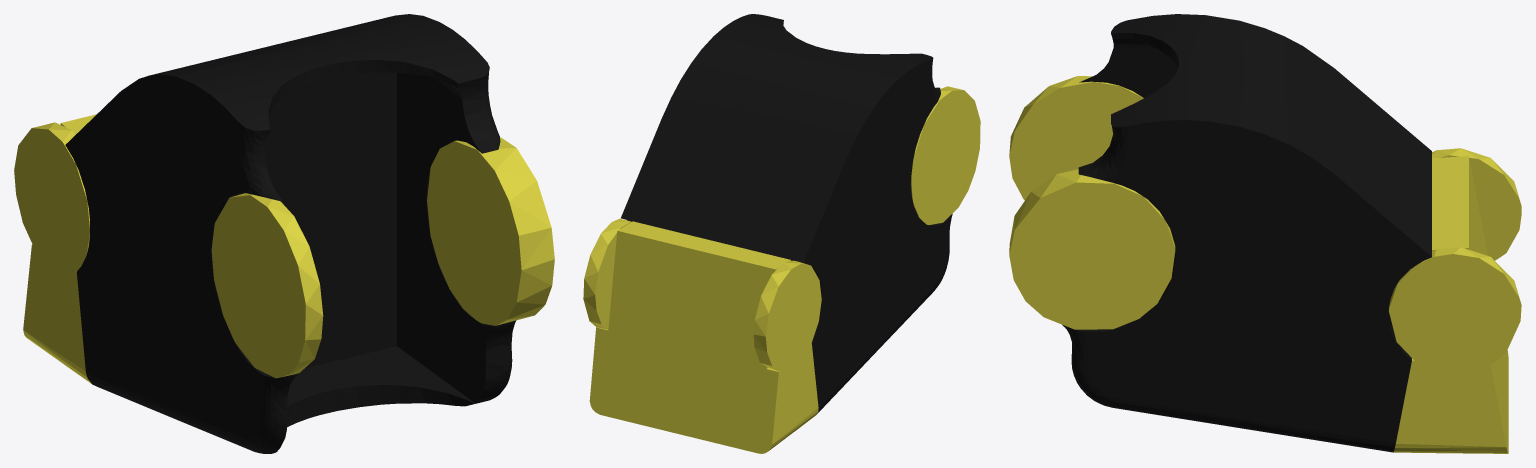
Rendered from thigh_sinister_collision.obj.
3 views of the same model, side by side, from view 1: azimuth 30°, elevation 25°; view 2: azimuth 150°, elevation 25°; view 3: azimuth 270°, elevation 25° (orthographic). The views are drawn at different scales.
Visible parts, largest first — view 1: Body4, Body7, Body8, Body6, Body9; view 2: Body4, Body9, Body8, Body6, Body5; view 3: Body4, Body7, Body9, Body5, Body8, Body6.
Boxes of the visible parts, left/top/right/bottom form: Body4: left=65, top=14, right=516, bottom=453; Body7: left=427, top=137, right=554, bottom=325; Body8: left=211, top=193, right=323, bottom=378; Body6: left=14, top=122, right=89, bottom=273; Body9: left=23, top=114, right=96, bottom=385; Body4: left=621, top=14, right=952, bottom=413; Body9: left=589, top=221, right=818, bottom=453; Body8: left=911, top=86, right=980, bottom=224; Body6: left=753, top=260, right=821, bottom=371; Body5: left=583, top=218, right=631, bottom=329; Body4: left=1062, top=14, right=1431, bottom=452; Body7: left=1009, top=169, right=1175, bottom=329; Body9: left=1393, top=156, right=1508, bottom=453; Body5: left=1389, top=247, right=1521, bottom=373; Body8: left=1009, top=76, right=1143, bottom=200; Body6: left=1432, top=148, right=1521, bottom=260.
Size of the model in its own units: 15 by 22.4 by 30.64.
